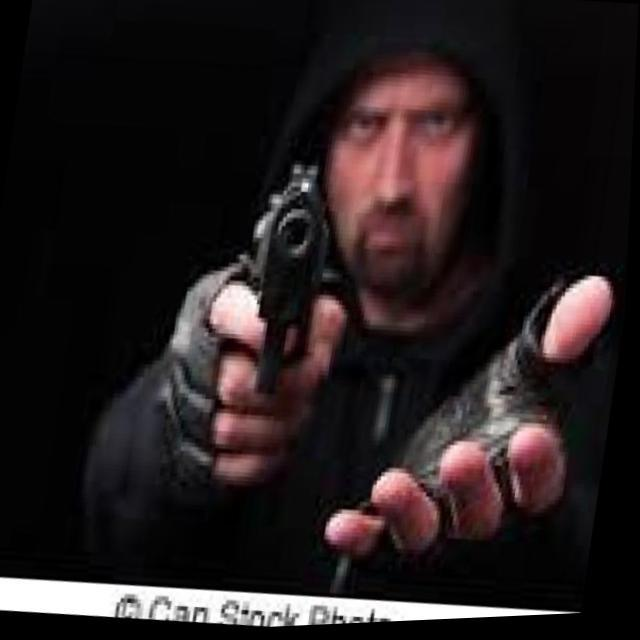weapon: (235, 160, 342, 401)
